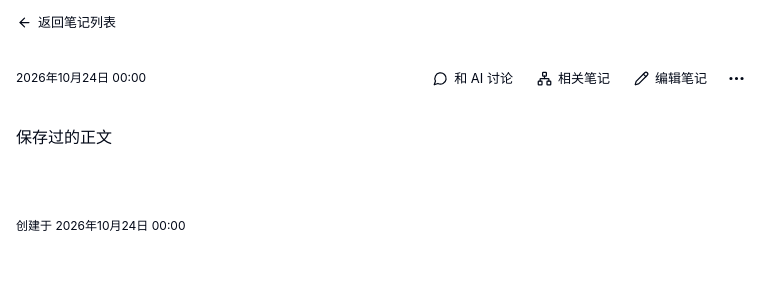
Test: 真实笔记对话入口 › keeps the readable source and retry action after a server rejection
The image size is (761, 283).
Click the button "和 AI 讨论": [473, 78] box [422,61,524,95]
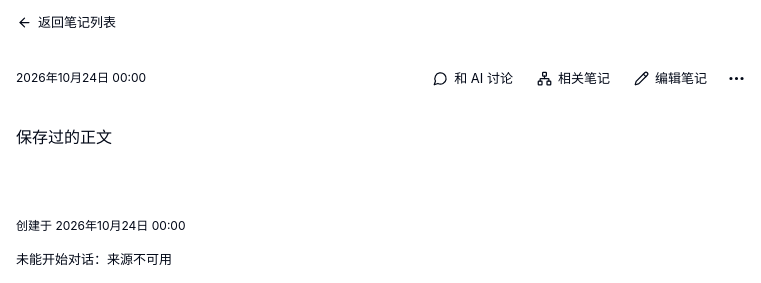
Expected: the text "保存过的正文" is shown, [16,127,112,147]
Expected: the message shows "来源不可用", [16,251,172,267]
